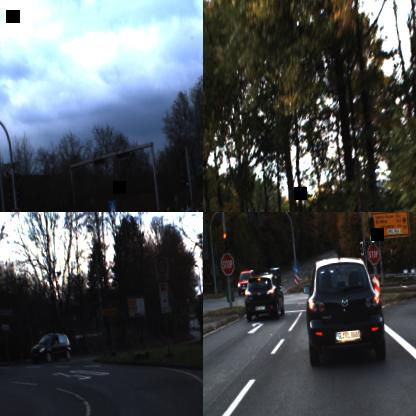NO ENTRY: (10, 207, 22, 212)
STOP: (220, 252, 235, 275), (366, 244, 380, 264)
keep right: (292, 266, 298, 274)
speed limit 30: (156, 256, 168, 275)
